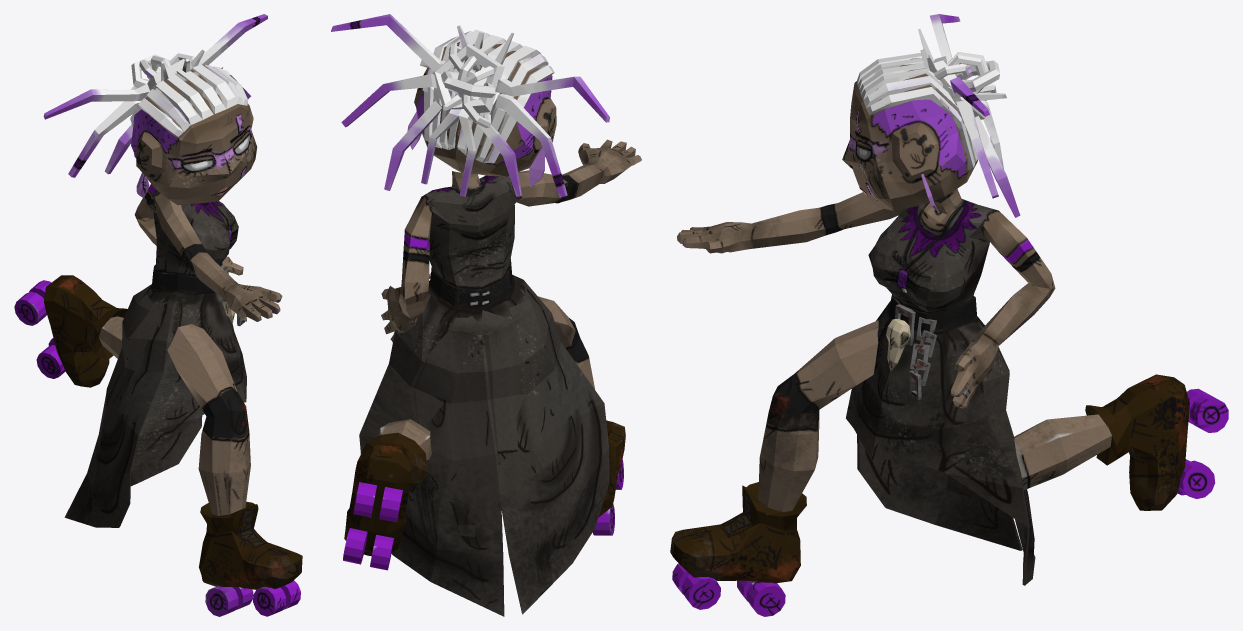
Rendered from bruja_000009.obj.
3 views of the same model, side by side, from view 1: azimuth 30°, elevation 25°; view 2: azimuth 150°, elevation 25°; view 3: azimuth 270°, elevation 25° (orthographic). The views are drawn at different scales.
Parts seen in each view (by area): view 1: Bruja_Plane.001; view 2: Bruja_Plane.001; view 3: Bruja_Plane.001.
Boxes of the visible parts, x1,y1,x2,y2 form: Bruja_Plane.001: (14,14,302,616); Bruja_Plane.001: (331,14,641,616); Bruja_Plane.001: (670,14,1228,616).
Bounding box in the file's own units: 7.38 × 15.04 × 13.02.
